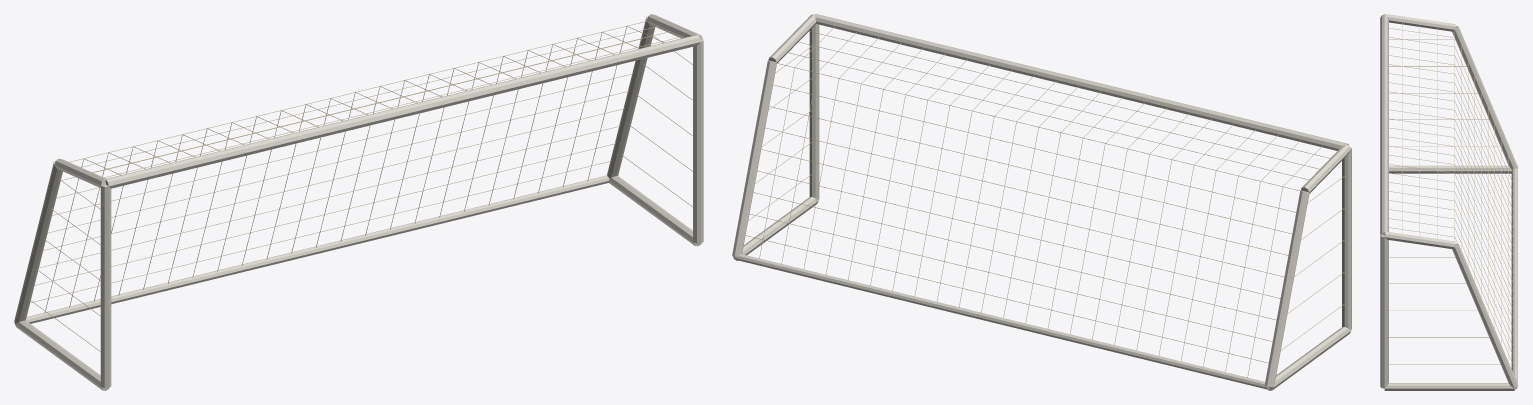
File: b09_soccer_goal.glb
3 renders of one model, left to right at view 1: azimuth 30°, elevation 25°; view 2: azimuth 150°, elevation 25°; view 3: azimuth 270°, elevation 25°, orthographic. The views are drawn at different scales.
Visible parts, largest first — view 1: b09_soccer_goal; view 2: b09_soccer_goal; view 3: b09_soccer_goal.
Boxes of the visible parts, <box> form: b09_soccer_goal: <box>14,14,703,390</box>; b09_soccer_goal: <box>732,14,1351,390</box>; b09_soccer_goal: <box>1380,14,1518,390</box>.
Bounding box in the file's own units: 7.44 × 2.5 × 1.97.
